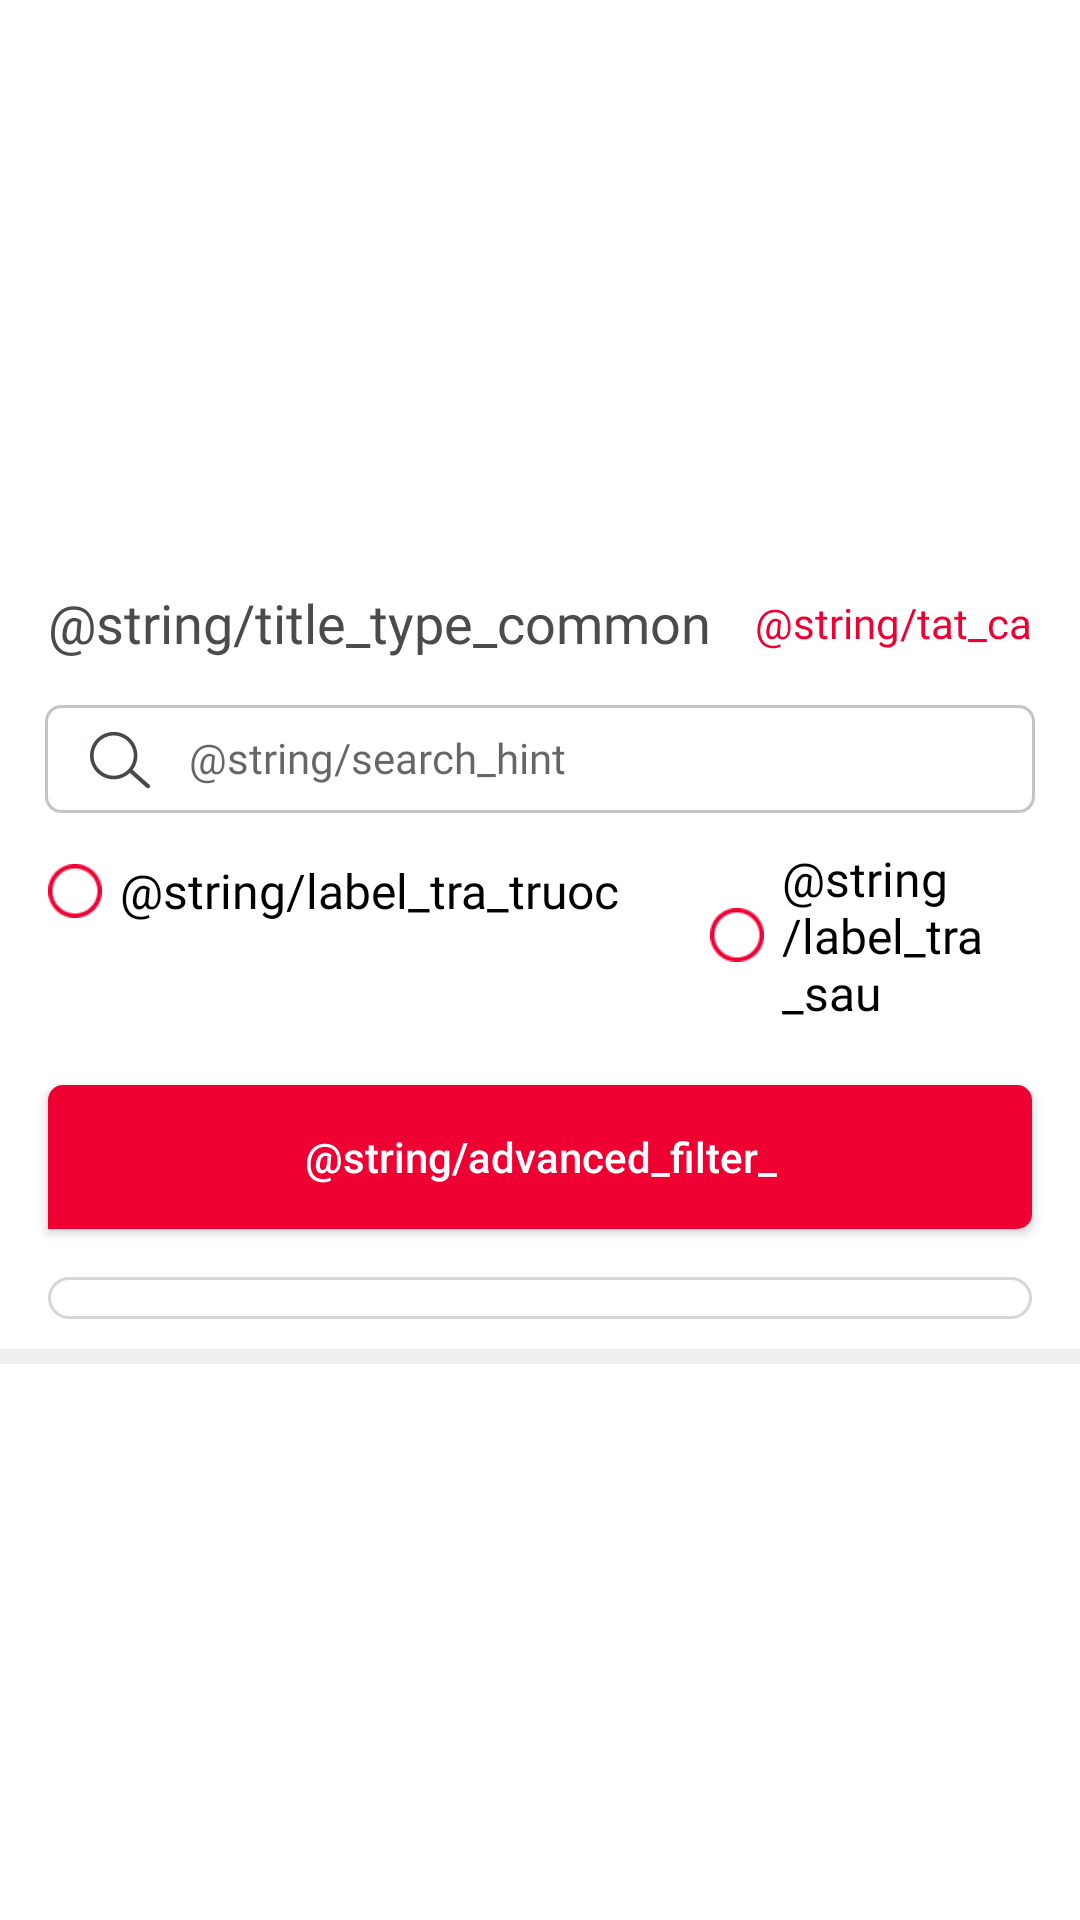

Point at icon controls on the screen. Image size 1080w x 1920h, points as (x=x, y=y).
contact search: (x=120, y=760)
radio: (x=75, y=891), (x=737, y=935)
